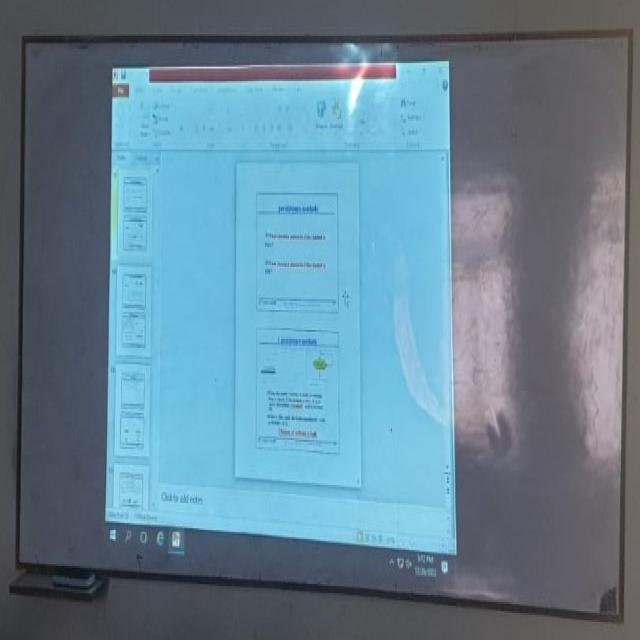Slide: (106, 53, 459, 584)
White-board: (17, 35, 632, 623)
